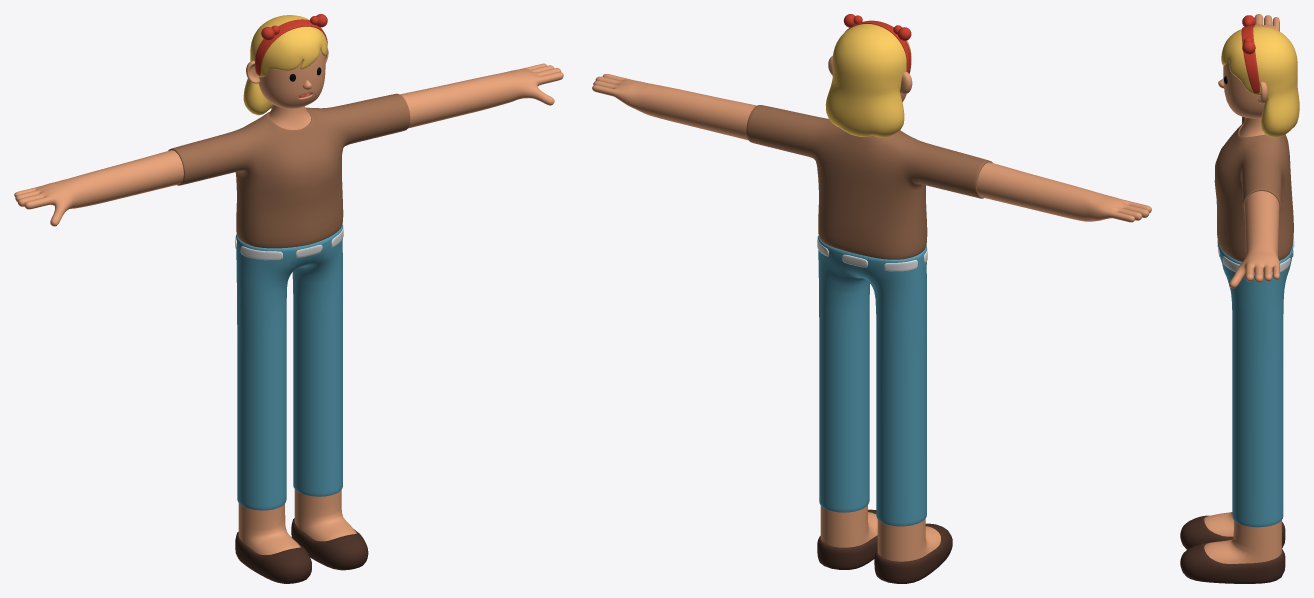
Rendered from GIRL 9.fbx.
3 renders of one model, left to right at view 1: azimuth 30°, elevation 25°; view 2: azimuth 150°, elevation 25°; view 3: azimuth 270°, elevation 25°, orthographic. The views are drawn at different scales.
Parts seen in each view (by area): view 1: GIRL 9_PANTS, GIRL 9_SHIRT, GIRL_BODY (NO SKIRT).006, GIRL 9_HAIR, GIRL_9_SHOES.R, GIRL_9_SHOES.L, GIRL 9_HEADBAND, GIRL 9_BELT; view 2: GIRL 9_PANTS, GIRL 9_SHIRT, GIRL_BODY (NO SKIRT).006, GIRL 9_HAIR, GIRL_9_SHOES.R, GIRL_9_SHOES.L, GIRL 9_HEADBAND, GIRL 9_BELT; view 3: GIRL 9_PANTS, GIRL_BODY (NO SKIRT).006, GIRL 9_SHIRT, GIRL 9_HAIR, GIRL_9_SHOES.L, GIRL_9_SHOES.R, GIRL 9_HEADBAND, GIRL 9_BELT.
Part boxes in pixels (box(x1,y1,x2,y2)): GIRL 9_PANTS: box(236, 224, 342, 510); GIRL 9_SHIRT: box(168, 93, 410, 248); GIRL_BODY (NO SKIRT).006: box(14, 48, 563, 554); GIRL 9_HAIR: box(243, 15, 327, 115); GIRL_9_SHOES.R: box(235, 532, 311, 583); GIRL_9_SHOES.L: box(291, 518, 368, 570); GIRL 9_HEADBAND: box(255, 14, 327, 75); GIRL 9_BELT: box(235, 224, 343, 260); GIRL 9_PANTS: box(818, 235, 926, 526); GIRL 9_SHIRT: box(746, 105, 992, 259); GIRL_BODY (NO SKIRT).006: box(592, 55, 1151, 561); GIRL 9_HAIR: box(825, 24, 911, 137); GIRL_9_SHOES.R: box(874, 523, 952, 583); GIRL_9_SHOES.L: box(817, 509, 877, 569); GIRL 9_HEADBAND: box(843, 14, 911, 73); GIRL 9_BELT: box(817, 236, 927, 271); GIRL 9_PANTS: box(1217, 240, 1293, 527); GIRL_BODY (NO SKIRT).006: box(1204, 14, 1281, 563); GIRL 9_SHIRT: box(1214, 116, 1293, 261); GIRL 9_HAIR: box(1221, 26, 1299, 137); GIRL_9_SHOES.L: box(1180, 543, 1285, 583); GIRL_9_SHOES.R: box(1180, 515, 1285, 549); GIRL 9_HEADBAND: box(1241, 15, 1259, 93); GIRL 9_BELT: box(1217, 238, 1294, 275).
Bounding box in the file's own units: 205 × 192 × 39.08.
Materials: 10 (7 with a texture image).
